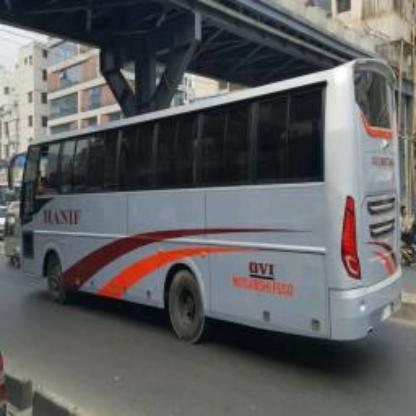bus: (3, 52, 404, 342)
